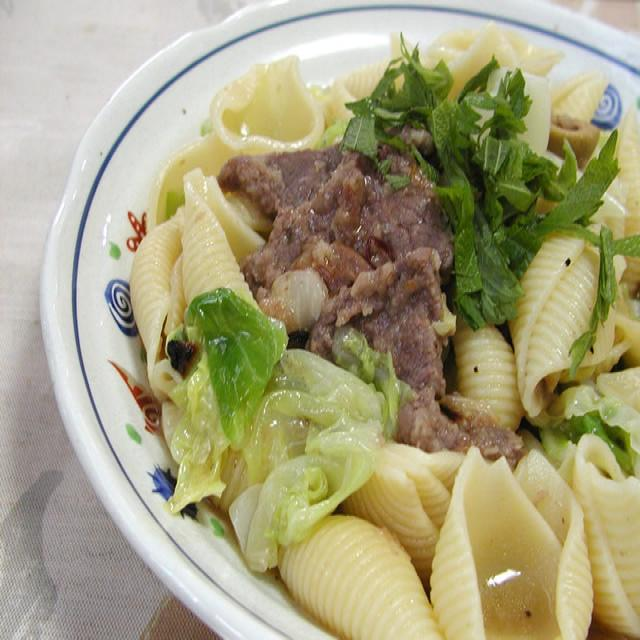蔬菜料理: (108, 42, 640, 640)
